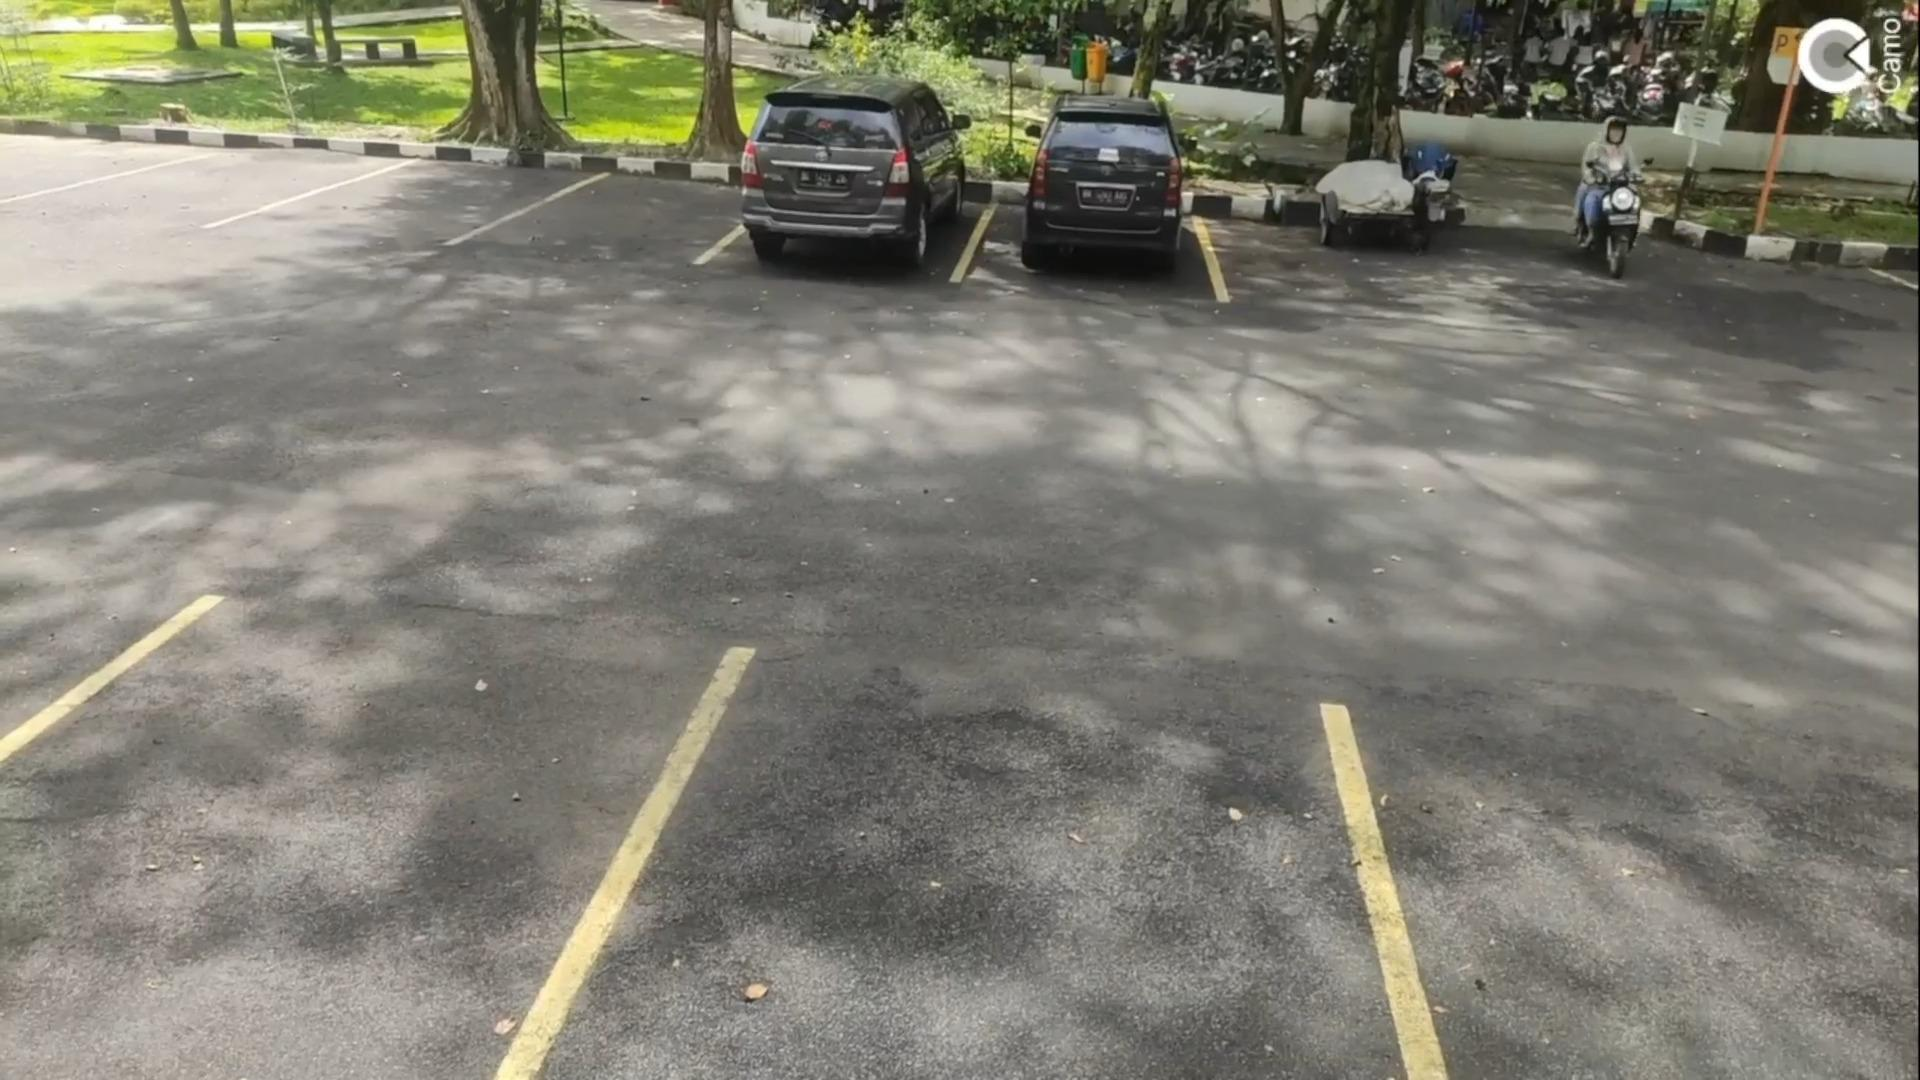empty: (640, 643, 1399, 1080), (0, 581, 644, 1080), (290, 143, 527, 252), (62, 122, 299, 227), (520, 154, 726, 273)
occupied: (714, 105, 967, 293), (972, 112, 1219, 302)
